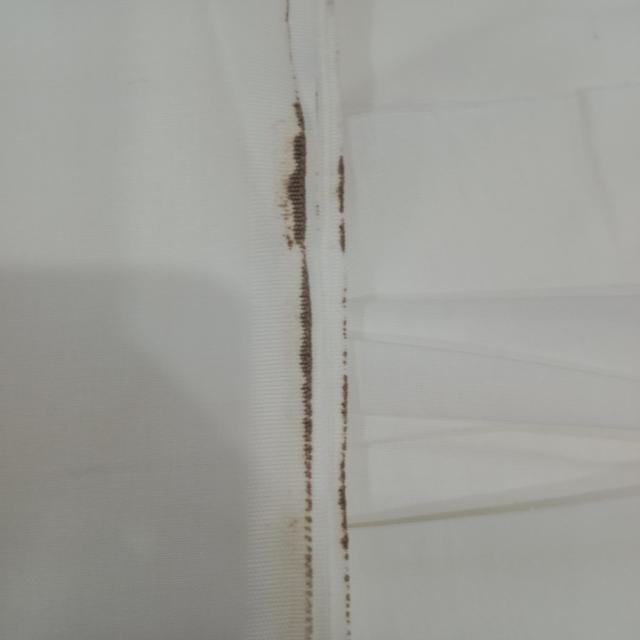stain: (279, 5, 362, 640)
